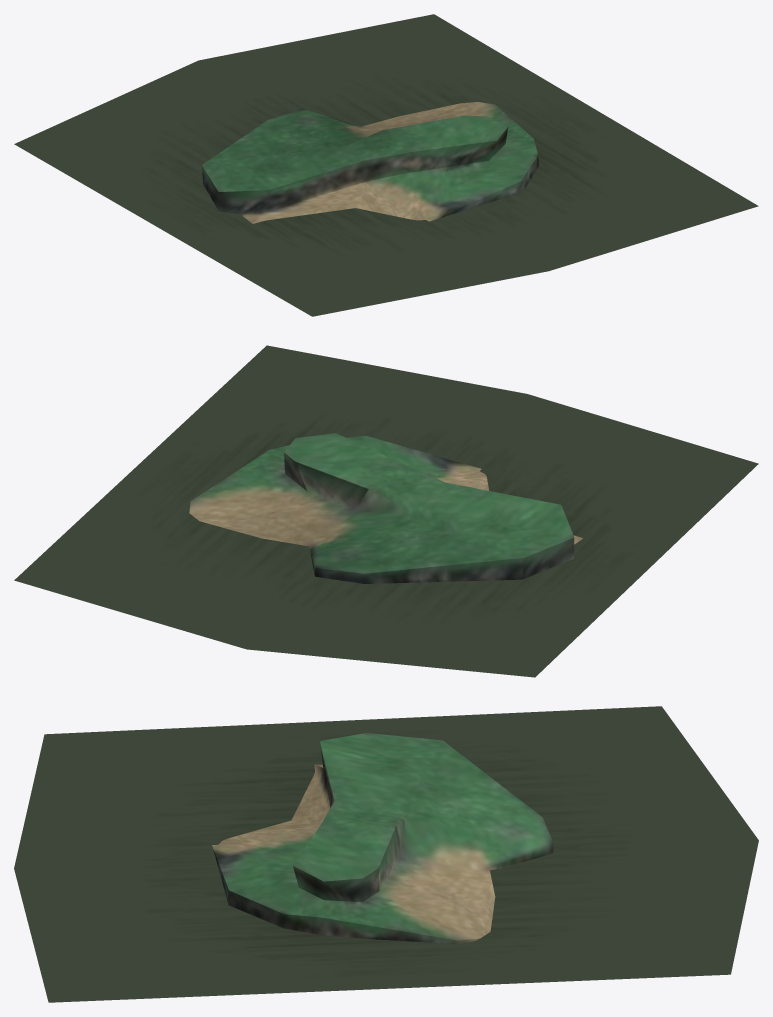
The model's file is pir_m_are_isl_pvpFrench_worldmap.fbx.
3 views of the same model, one above another, from view 1: azimuth 30°, elevation 25°; view 2: azimuth 150°, elevation 25°; view 3: azimuth 270°, elevation 25° (orthographic). The views are drawn at different scales.
Parts seen in each view (by area): view 1: sketchmark, top_mesh; view 2: sketchmark, top_mesh; view 3: sketchmark, top_mesh.
Part boxes in pixels (x1=…): sketchmark: x1=14, y1=14, x2=758, y2=316; top_mesh: x1=201, y1=102, x2=538, y2=223; sketchmark: x1=14, y1=345, x2=758, y2=677; top_mesh: x1=189, y1=433, x2=582, y2=583; sketchmark: x1=14, y1=706, x2=758, y2=1002; top_mesh: x1=212, y1=733, x2=553, y2=944.
Size of the model in its own units: 12.75 by 0.899 by 13.54.
Materials: 2 (2 with a texture image).
